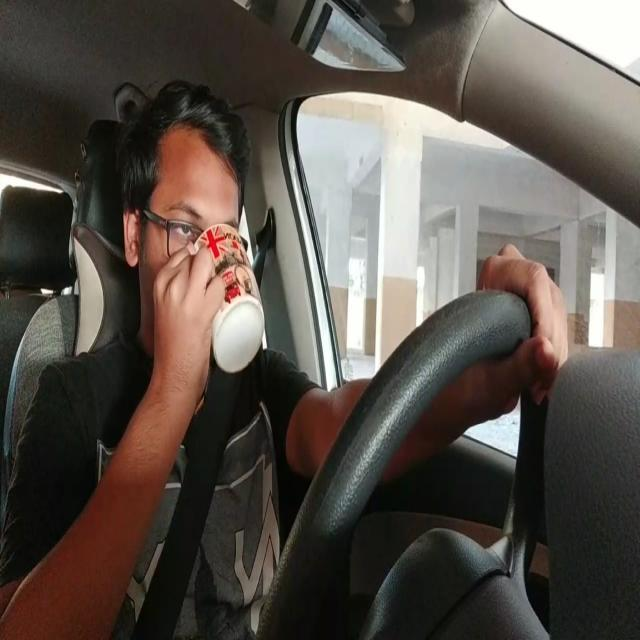Drinking: (123, 89, 267, 375)
